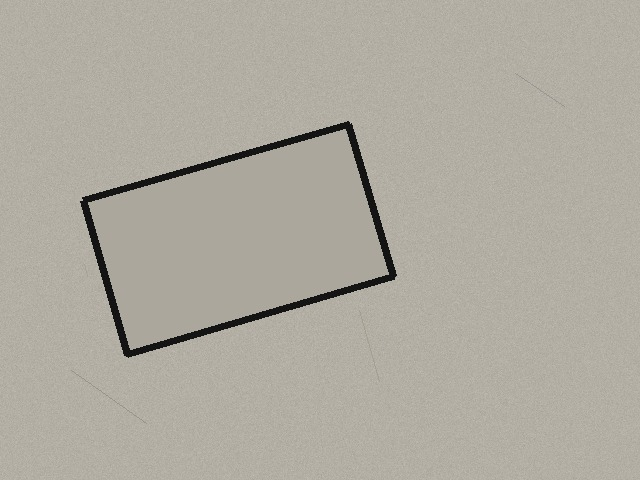parking_area: (83, 124, 393, 354)
